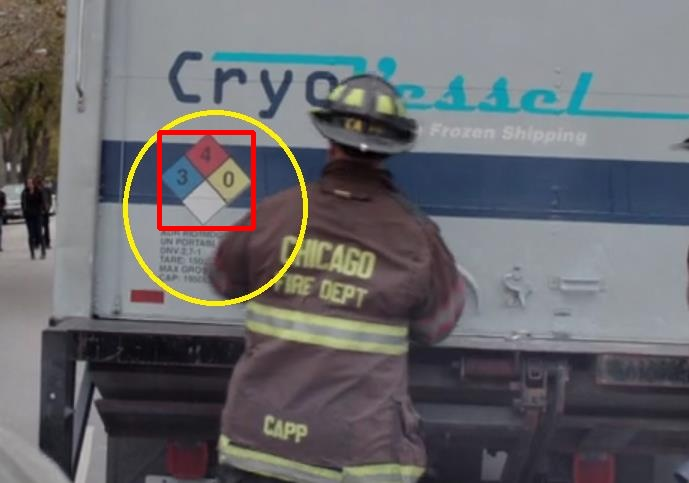nfpa: (159, 132, 253, 228)
